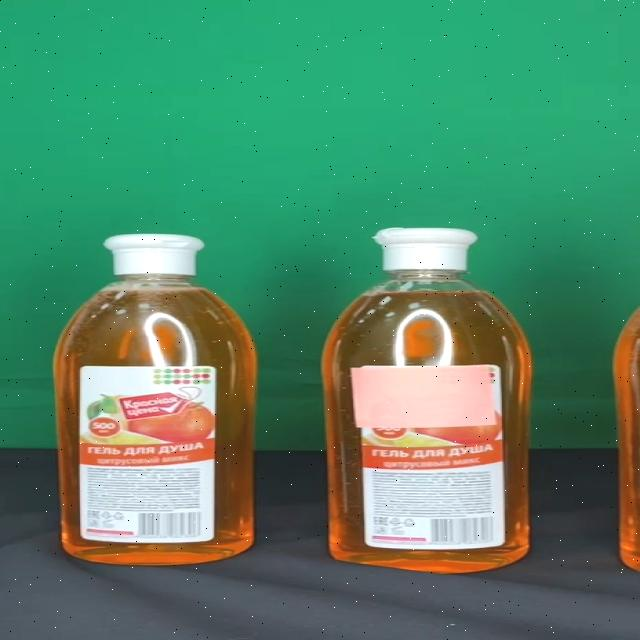Bottle: (322, 225, 531, 573), (53, 234, 257, 565)
Cap: (374, 226, 476, 272), (104, 234, 204, 277)
